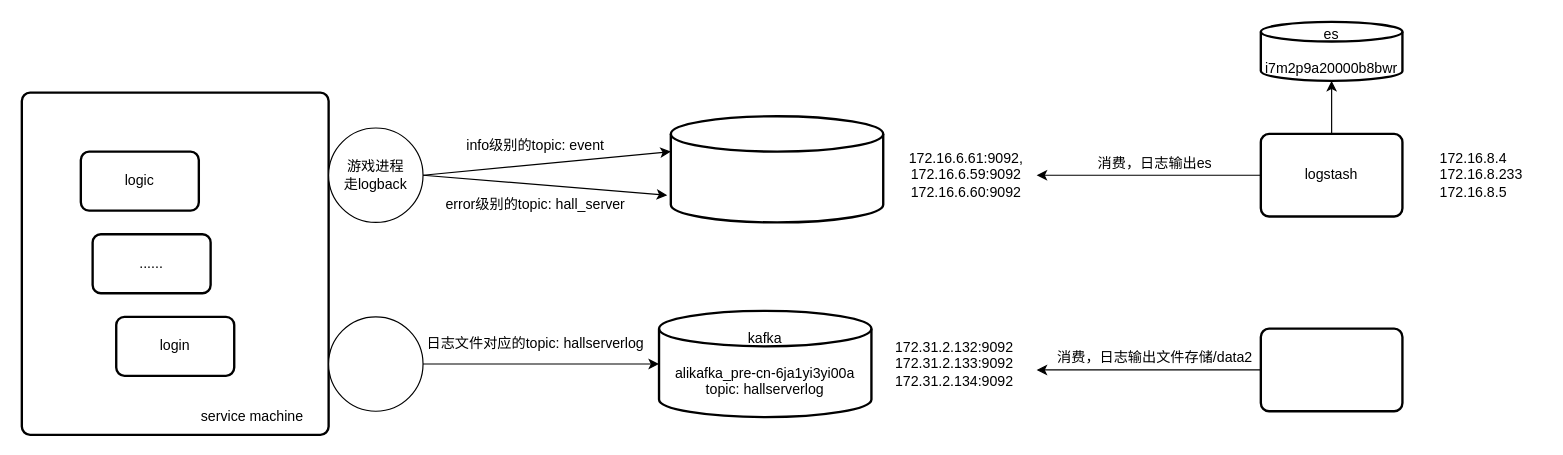
The diagram is 1563 pixels wide and 455 high, and some of its shapes have lost their labels. Here are the shapes that lost their labels. From the top down, the centre of each, then its label:
At [776,168]: "kafka alikafka_pre-cn-m7r1u88dy008".
At [375,363]: "filebeat".
At [1331,369]: "logstash 172.16.6.166 name:logserver".
